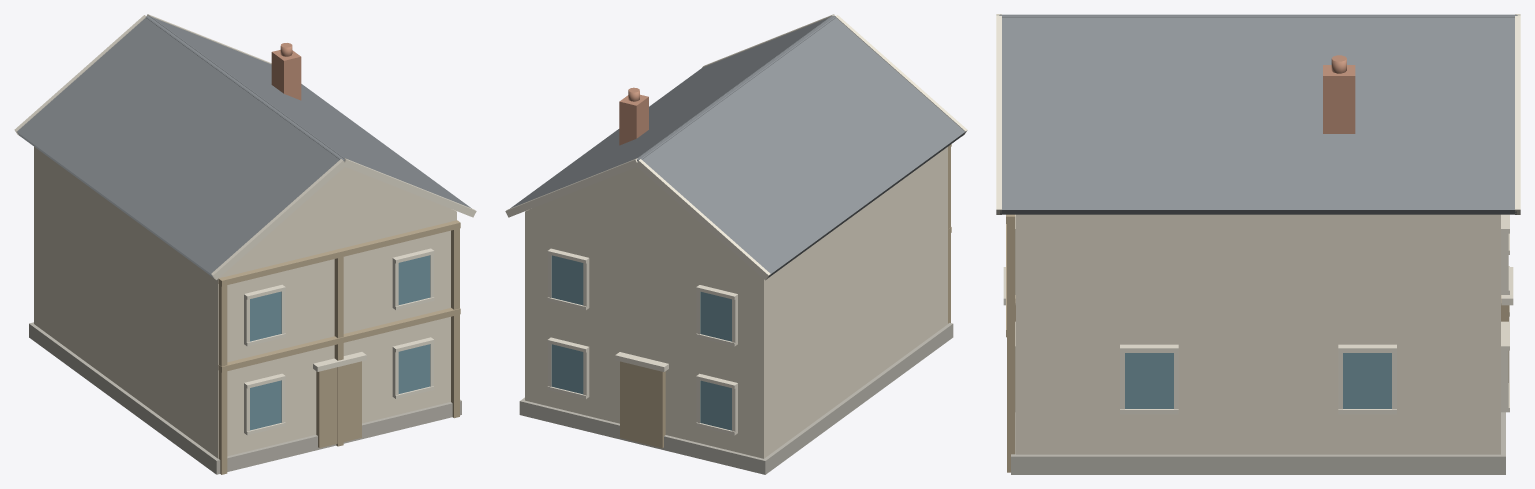
Rendered from rhine-half-timber_lod1.glb.
3 views of the same model, side by side, from view 1: azimuth 30°, elevation 25°; view 2: azimuth 150°, elevation 25°; view 3: azimuth 270°, elevation 25° (orthographic). The views are drawn at different scales.
Visible parts, largest first — view 1: RF_Body, RF_Roof.001, RF_Gable, RF_Roof, RF_Foundation, RF_Door.001, RF_TimberBand, RF_TimberBand.001, RF_TimberPost.001, RF_TimberPost, RF_Vergeband.001, RF_TimberPost.002 (+9 smaller); view 2: RF_Body, RF_Roof.001, RF_Gable.001, RF_Roof, RF_Foundation, RF_Door, RF_Vergeband.002, RF_Window.007, RF_Window.008, RF_Window.006, RF_Window.005, RF_Chimney (+5 smaller); view 3: RF_Body, RF_Roof, RF_Foundation, RF_Window.009, RF_Window, RF_Chimney, RF_TimberPost, RF_Ridge, RF_Vergeband, RF_Vergeband.003, RF_Roof.001, RF_WindowFrame.016.
Boxes of the visible parts, <box> form: RF_Body: <box>34,147,456,458</box>; RF_Roof.001: <box>17,17,340,277</box>; RF_Gable: <box>233,167,456,265</box>; RF_Roof: <box>149,16,471,208</box>; RF_Foundation: <box>29,322,461,474</box>; RF_Door.001: <box>316,361,361,447</box>; RF_TimberBand: <box>218,220,460,286</box>; RF_TimberBand.001: <box>218,308,460,372</box>; RF_TimberPost.001: <box>218,277,227,474</box>; RF_TimberPost: <box>451,221,459,418</box>; RF_Vergeband.001: <box>211,159,346,279</box>; RF_TimberPost.002: <box>334,248,343,446</box>; RF_Body: <box>525,147,947,458</box>; RF_Roof.001: <box>641,17,965,277</box>; RF_Gable.001: <box>525,167,748,265</box>; RF_Roof: <box>510,16,832,208</box>; RF_Foundation: <box>519,323,953,474</box>; RF_Door: <box>620,361,665,448</box>; RF_Vergeband.002: <box>636,159,770,280</box>; RF_Window.007: <box>551,344,583,394</box>; RF_Window.008: <box>551,255,583,305</box>; RF_Window.006: <box>700,291,731,341</box>; RF_Window.005: <box>700,380,731,430</box>; RF_Chimney: <box>619,94,648,145</box>; RF_Body: <box>1016,214,1500,454</box>; RF_Roof: <box>1000,16,1516,214</box>; RF_Foundation: <box>1011,412,1505,474</box>; RF_Window.009: <box>1125,353,1173,408</box>; RF_Window: <box>1343,353,1391,408</box>; RF_Chimney: <box>1323,65,1355,133</box>; RF_TimberPost: <box>1007,214,1015,472</box>; RF_Ridge: <box>999,15,1517,17</box>; RF_Vergeband: <box>1515,16,1520,214</box>; RF_Vergeband.003: <box>996,16,1001,214</box>; RF_Roof.001: <box>1000,14,1516,15</box>; RF_WindowFrame.016: <box>1501,227,1508,294</box>.
Bounding box in the file's own units: 9.93 × 10.47 × 12.98.
